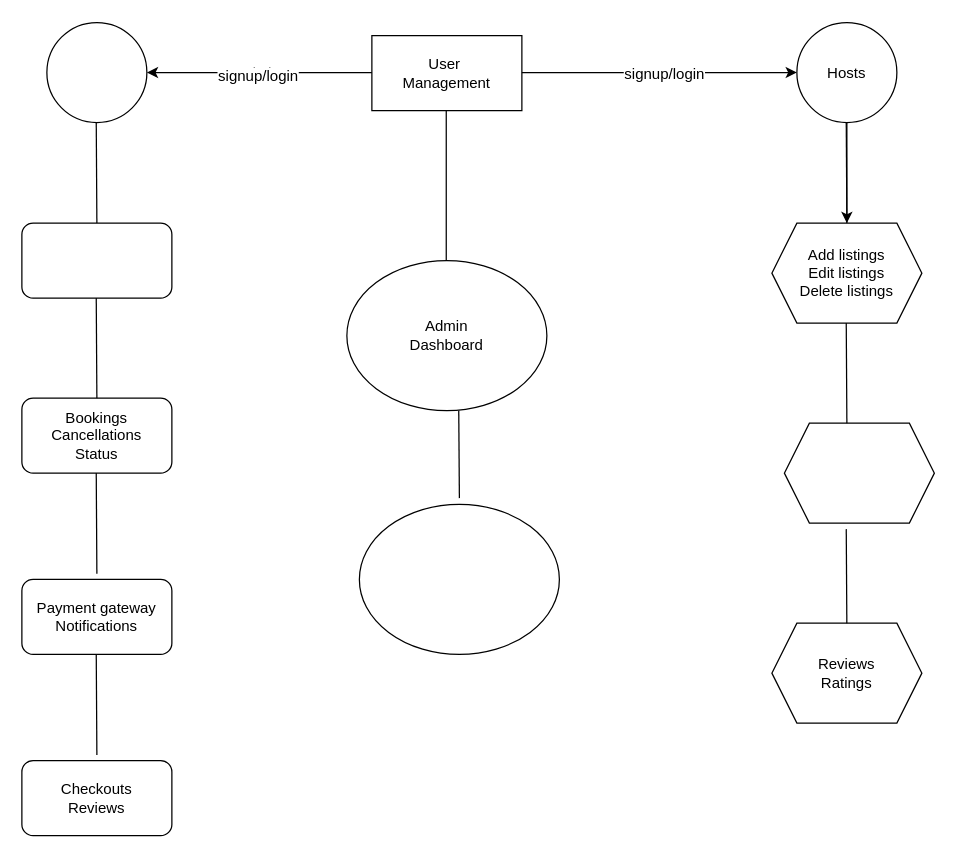
Image size: 956x858. Some labels were removed from this diagram. Here are the shapes that lost their labels. From the top down, the centre of each, then its label:
At [96,71]: "Guests".
At [96,260]: "Manage profile Search and filter properties".
At [858,472]: "NOTIFICATIONS Bookings Cancellations Payments".
At [458,578]: "Users LIstings Bookings Payments".
